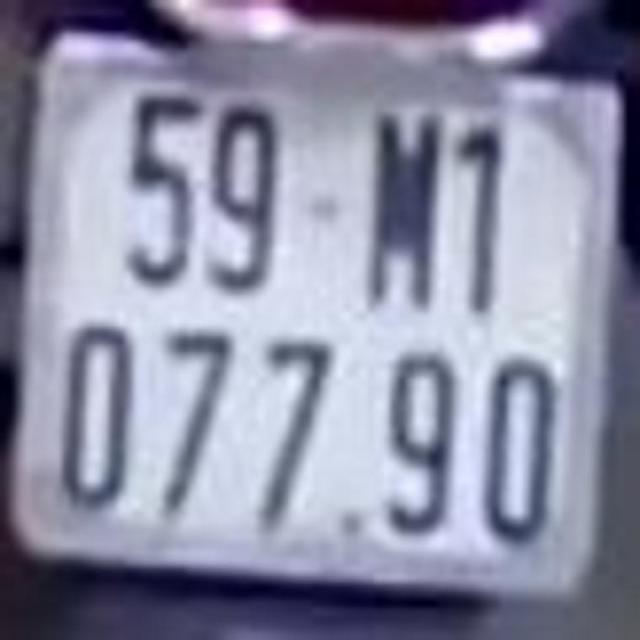0: (478, 349, 558, 552), (59, 320, 132, 507)
1: (450, 111, 505, 316)
5: (126, 83, 192, 280)
7: (248, 328, 334, 525), (155, 322, 232, 520)
9: (385, 341, 459, 538), (206, 96, 278, 294)
M: (365, 98, 447, 313)
